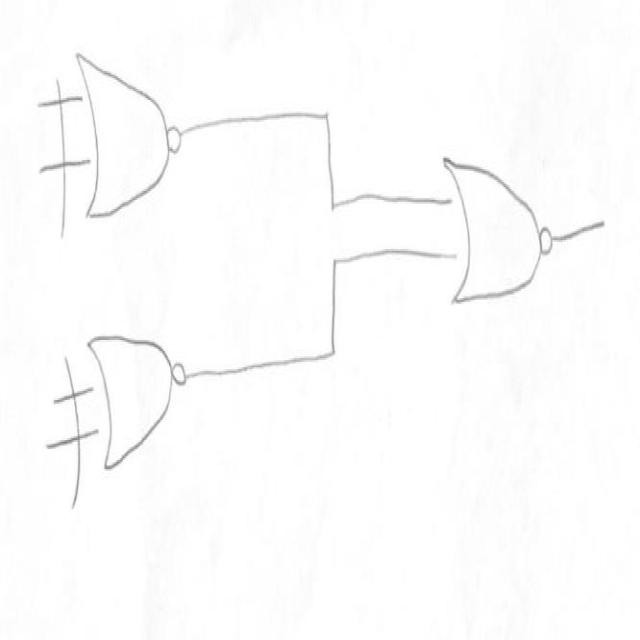NOR: (434, 117, 558, 339)
XNOR: (50, 319, 216, 516), (44, 34, 192, 243)
